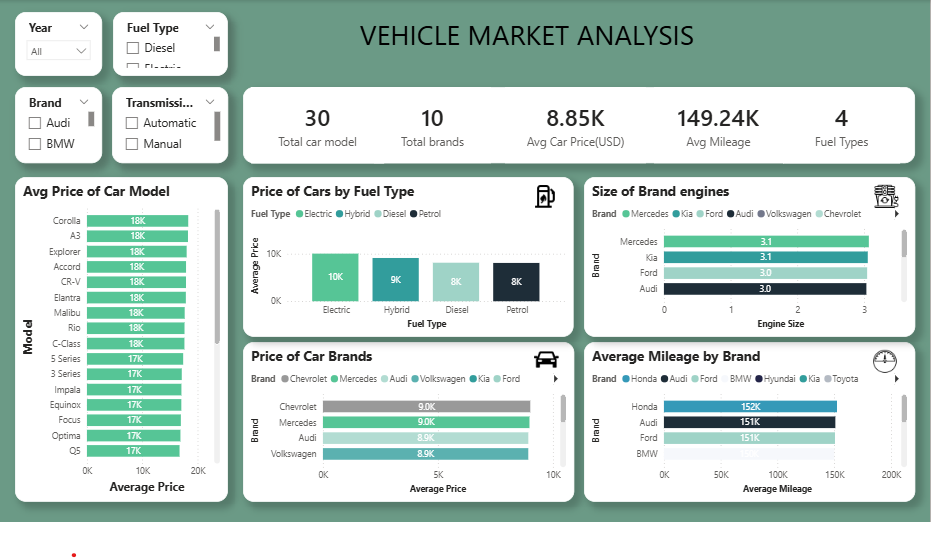

The page's visual inventory and layout, read from the dashboard file:
{"tool":"powerbi","page":{"name":"Page 1","canvas":[1280,720],"ordinal":0},"visuals":[{"type":"shape","box":[334.5,119.7,924.9,104.6],"z":0},{"type":"cardVisual","fields":{"Data":["car_price_dataset.Total car model"]},"box":[345.5,119.7,183.1,104.6],"z":1000},{"type":"cardVisual","fields":{"Data":["car_price_dataset.Total brands"]},"box":[514.8,119.7,161,104.6],"z":2000},{"type":"cardVisual","fields":{"Data":["car_price_dataset.Total Fuel Types"]},"box":[1077.7,119.7,161,104.6],"z":3000},{"type":"cardVisual","fields":{"Data":["Avg(car_price_dataset.Price)"]},"box":[695.1,119.7,194.1,104.6],"z":4000},{"type":"cardVisual","fields":{"Data":["Avg(car_price_dataset.Mileage)"]},"box":[900.1,119.7,177.5,104.6],"z":5000},{"type":"barChart","title":"Price of Car Brands","fields":{"Category":["car_price_dataset.Brand"],"Y":["Avg(car_price_dataset.Price)"],"Series":["car_price_dataset.Brand"]},"box":[334.5,470.7,455.6,220.2],"z":6000},{"type":"slicer","fields":{"Values":["car_price_dataset.Year"]},"box":[20.6,16.5,119.7,88.1],"z":7000},{"type":"barChart","title":"Average Mileage by Brand","fields":{"Category":["car_price_dataset.Brand"],"Y":["Avg(car_price_dataset.Mileage)"],"Series":["car_price_dataset.Brand"]},"box":[803.8,470.7,455.6,220.2],"z":8000},{"type":"barChart","title":"Avg Price of Car Model","fields":{"Category":["car_price_dataset.Model"],"Y":["Max(car_price_dataset.Price)"]},"box":[20.6,243.6,293.2,447.3],"z":9000},{"type":"textbox","box":[191.3,16.5,1068,72.9],"z":10000},{"type":"columnChart","title":"Price of Cars by Fuel Type","fields":{"Category":["car_price_dataset.Fuel_Type"],"Y":["Avg(car_price_dataset.Price)"],"Series":["car_price_dataset.Fuel_Type"]},"box":[334.5,243.6,455,220],"z":11000},{"type":"barChart","title":"Size of Brand engines","fields":{"Category":["car_price_dataset.Brand"],"Y":["Avg(car_price_dataset.Engine_Size)"],"Series":["car_price_dataset.Brand"]},"box":[803.8,243.6,455.6,220.2],"z":12000},{"type":"image","box":[1201.5,253.2,37.2,34.4],"z":13000},{"type":"image","box":[725.3,253.2,48.2,34.4],"z":14000},{"type":"image","box":[1197.4,480.3,41.3,34.4],"z":15000},{"type":"image","box":[735,474.8,34.4,39.9],"z":16000},{"type":"slicer","fields":{"Values":["car_price_dataset.Brand"]},"box":[20.6,119.7,119.7,104.6],"z":17000},{"type":"slicer","fields":{"Values":["car_price_dataset.Fuel_Type"]},"box":[155.5,16.5,158.3,88.1],"z":18000},{"type":"slicer","fields":{"Values":["car_price_dataset.Transmission"]},"box":[154.2,119.7,159.7,104.6],"z":19000}]}

Visuals, with their boxes on the page's 1280x720 design canvas (x1, y1, x2, y2). These are canvas units, not pixel positions in the 931x558 screenshot, which may show the page scaled, cropped or inside an application window:
shape: select_region(334, 120, 1259, 224)
cardVisual - car_price_dataset.Total car model: select_region(346, 120, 529, 224)
cardVisual - car_price_dataset.Total brands: select_region(515, 120, 676, 224)
cardVisual - car_price_dataset.Total Fuel Types: select_region(1078, 120, 1239, 224)
cardVisual - Avg(car_price_dataset.Price): select_region(695, 120, 889, 224)
cardVisual - Avg(car_price_dataset.Mileage): select_region(900, 120, 1078, 224)
"Price of Car Brands" barChart: select_region(334, 471, 790, 691)
slicer - car_price_dataset.Year: select_region(21, 16, 140, 105)
"Average Mileage by Brand" barChart: select_region(804, 471, 1259, 691)
"Avg Price of Car Model" barChart: select_region(21, 244, 314, 691)
textbox: select_region(191, 16, 1259, 89)
"Price of Cars by Fuel Type" columnChart: select_region(334, 244, 790, 464)
"Size of Brand engines" barChart: select_region(804, 244, 1259, 464)
image: select_region(1202, 253, 1239, 288)
image: select_region(725, 253, 774, 288)
image: select_region(1197, 480, 1239, 515)
image: select_region(735, 475, 769, 515)
slicer - car_price_dataset.Brand: select_region(21, 120, 140, 224)
slicer - car_price_dataset.Fuel_Type: select_region(156, 16, 314, 105)
slicer - car_price_dataset.Transmission: select_region(154, 120, 314, 224)
